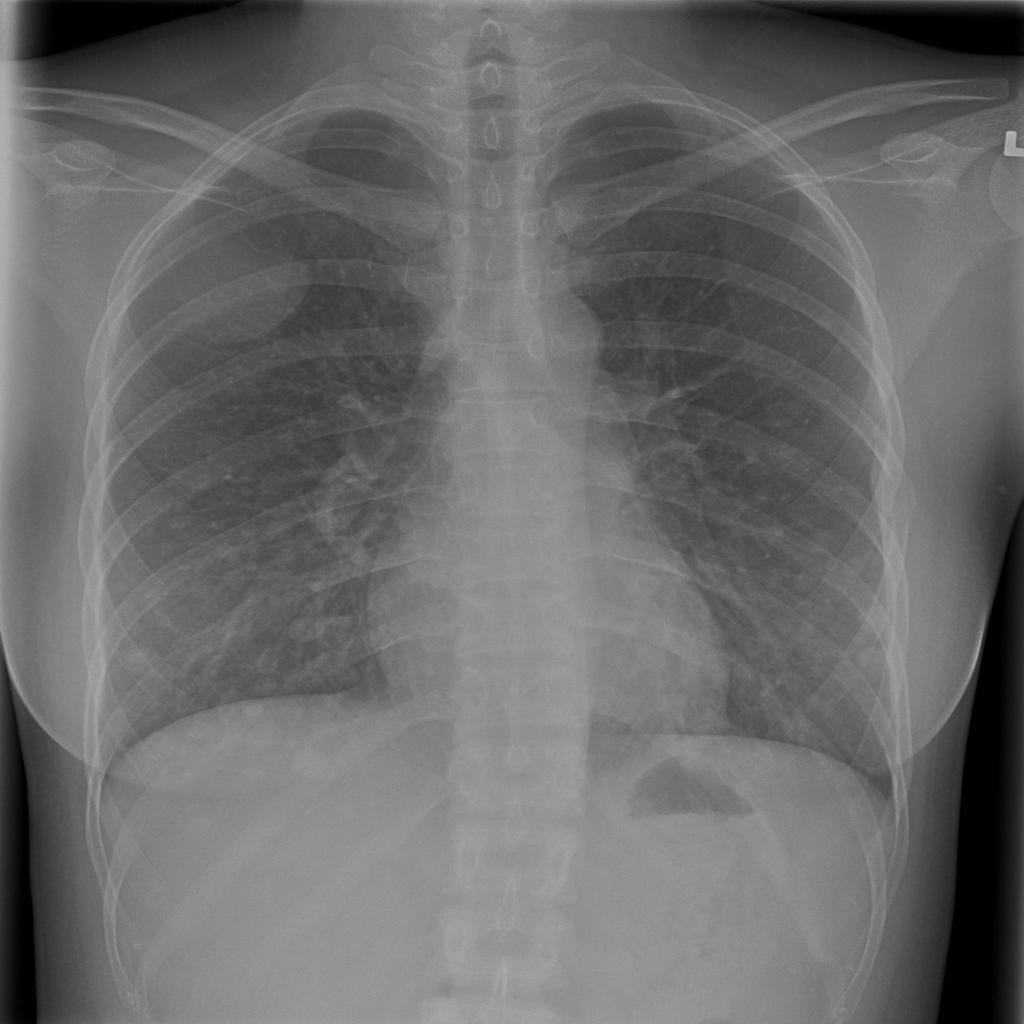nodule: (140, 207, 327, 354), (277, 724, 352, 796), (847, 634, 895, 686), (114, 635, 167, 682)
